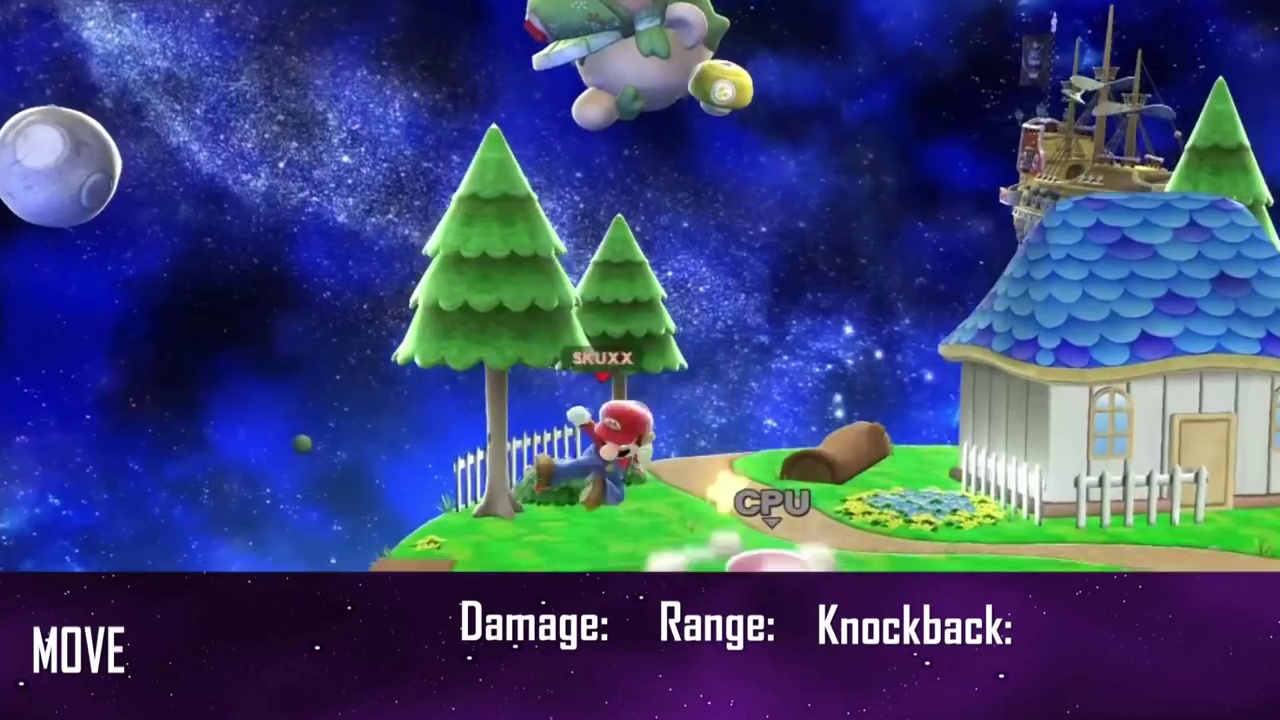Mario: (541, 402, 654, 510)
